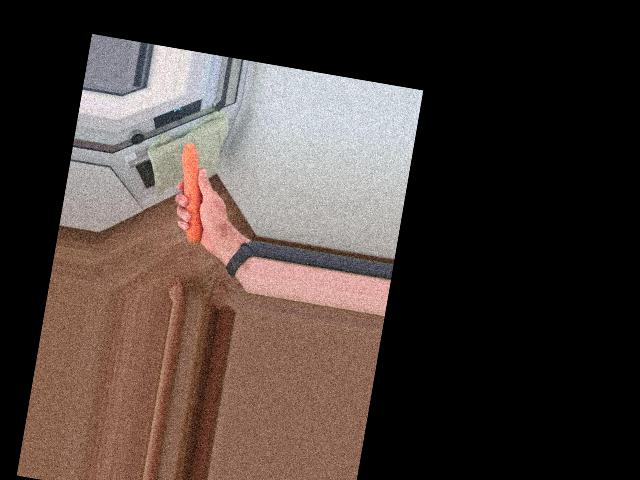carrot: (166, 142, 217, 247)
